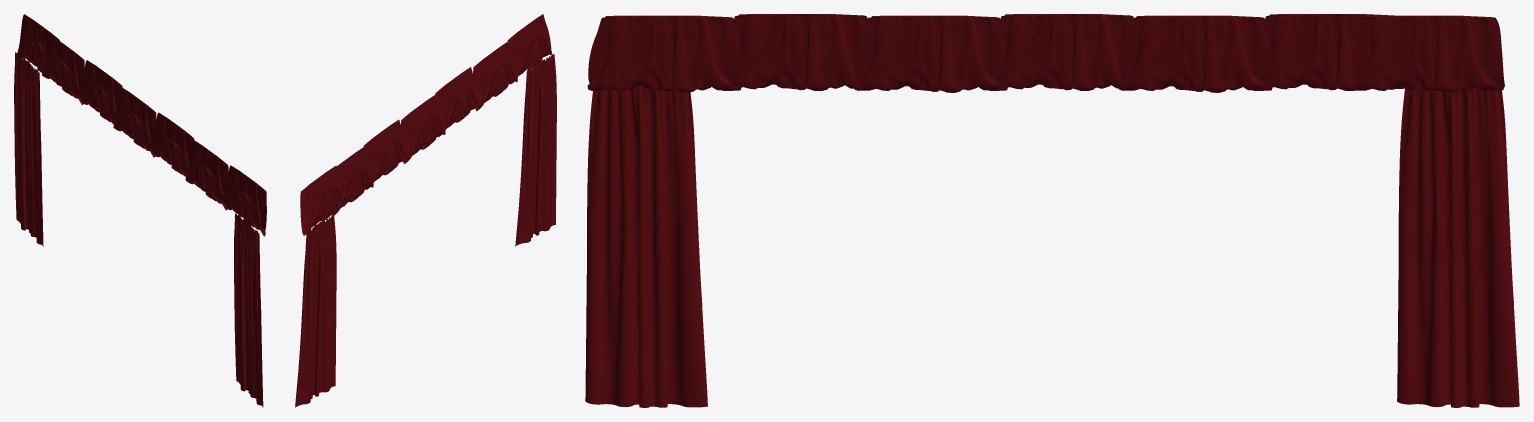
The model's file is Curtains.fbx.
3 views of the same model, side by side, from view 1: azimuth 30°, elevation 25°; view 2: azimuth 150°, elevation 25°; view 3: azimuth 270°, elevation 25° (orthographic). The views are drawn at different scales.
Visible parts, largest first — view 1: Grid, Grid.001, Grid.004, Grid.003, Grid.002, Grid.007, Grid.005, Grid.006, Grid.008; view 2: Grid, Grid.001, Grid.003, Grid.004, Grid.007, Grid.008, Grid.002, Grid.005, Grid.006; view 3: Grid.001, Grid, Grid.002, Grid.005, Grid.006, Grid.008, Grid.003, Grid.004, Grid.007.
Boxes of the visible parts, box(x1,y1,x2,y2) form: Grid: box(14, 52, 43, 246); Grid.001: box(234, 213, 263, 407); Grid.004: box(113, 86, 156, 157); Grid.003: box(185, 139, 228, 210); Grid.002: box(224, 165, 266, 236); Grid.007: box(42, 34, 84, 104); Grid.005: box(152, 112, 194, 176); Grid.006: box(80, 60, 122, 124); Grid.008: box(17, 14, 59, 84); Grid: box(295, 215, 336, 407); Grid.001: box(515, 54, 556, 246); Grid.003: box(473, 41, 517, 111); Grid.004: box(400, 94, 445, 164); Grid.007: box(329, 146, 373, 215); Grid.008: box(300, 165, 344, 235); Grid.002: box(507, 14, 551, 84); Grid.005: box(435, 67, 478, 137); Grid.006: box(363, 119, 407, 189); Grid.001: box(585, 86, 707, 407); Grid: box(1397, 87, 1519, 407); Grid.002: box(587, 15, 741, 92); Grid.005: box(854, 15, 1008, 92); Grid.006: box(1118, 15, 1272, 92); Grid.008: box(1351, 15, 1504, 92); Grid.003: box(732, 14, 867, 90); Grid.004: box(998, 14, 1133, 90); Grid.007: box(1263, 14, 1405, 90).
Size of the model in its own units: 40.62 by 799 by 1714.
